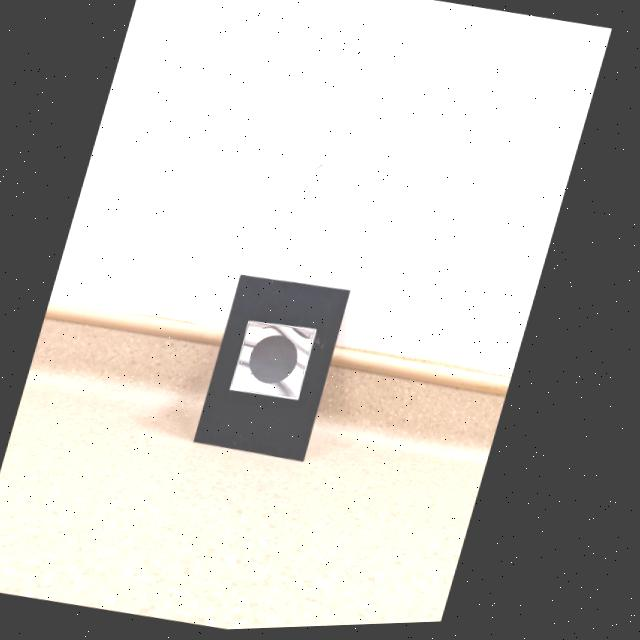CIRCLE: (256, 337, 305, 387)
